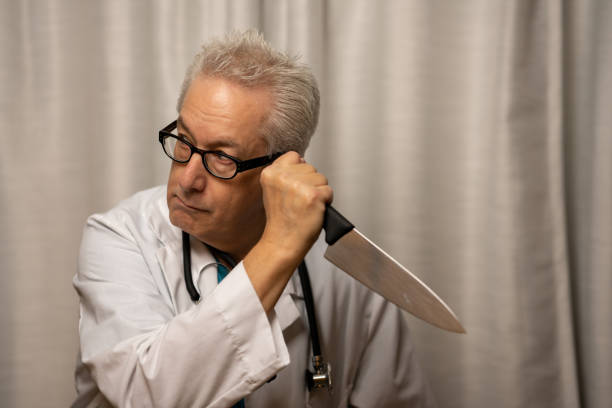knife: (321, 202, 470, 335)
